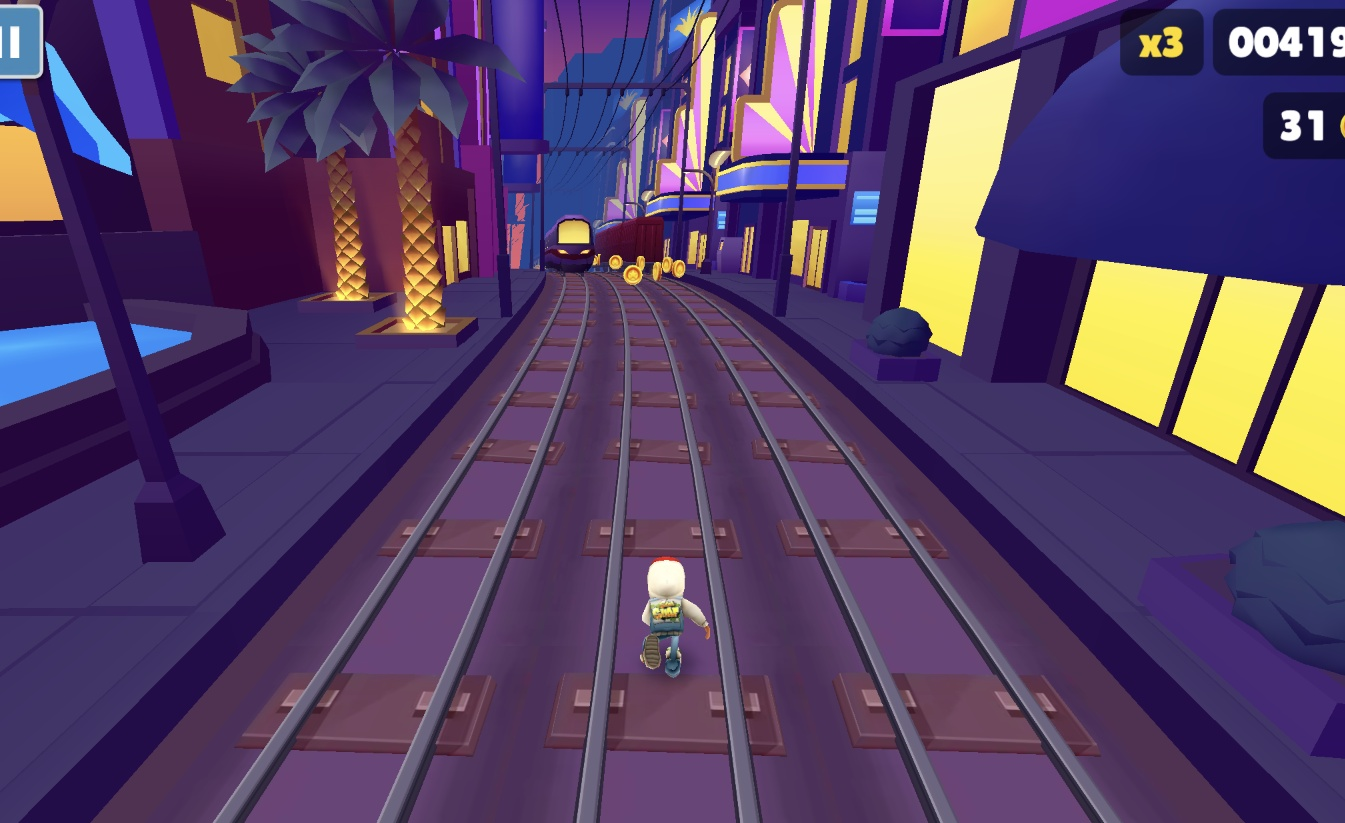train: (593, 220, 666, 283), (548, 215, 597, 273)
